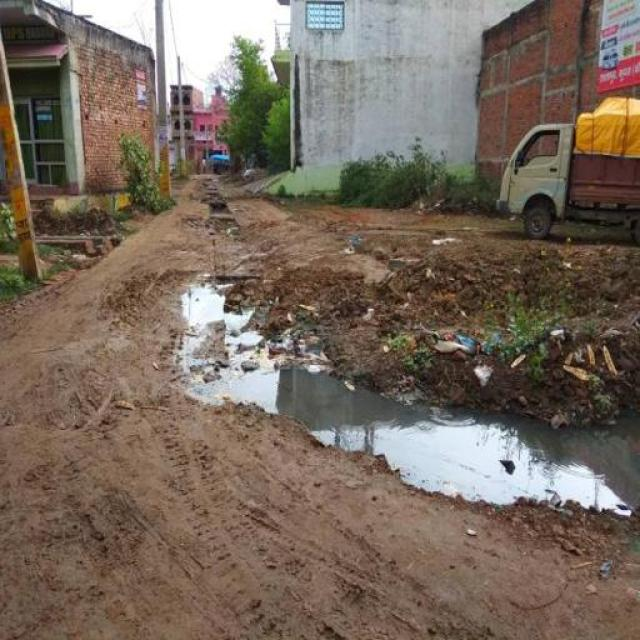puddle: (277, 376, 633, 498)
